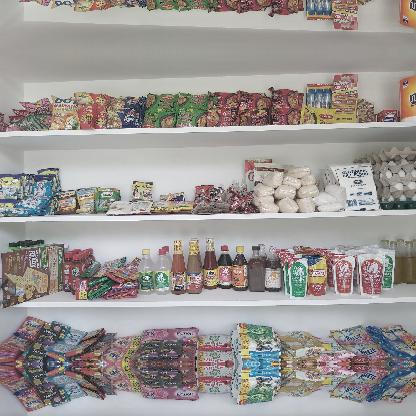Koko-Krunch: (0, 241, 68, 309)
